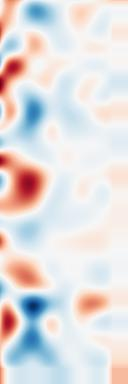filament: (0, 147, 57, 222)
